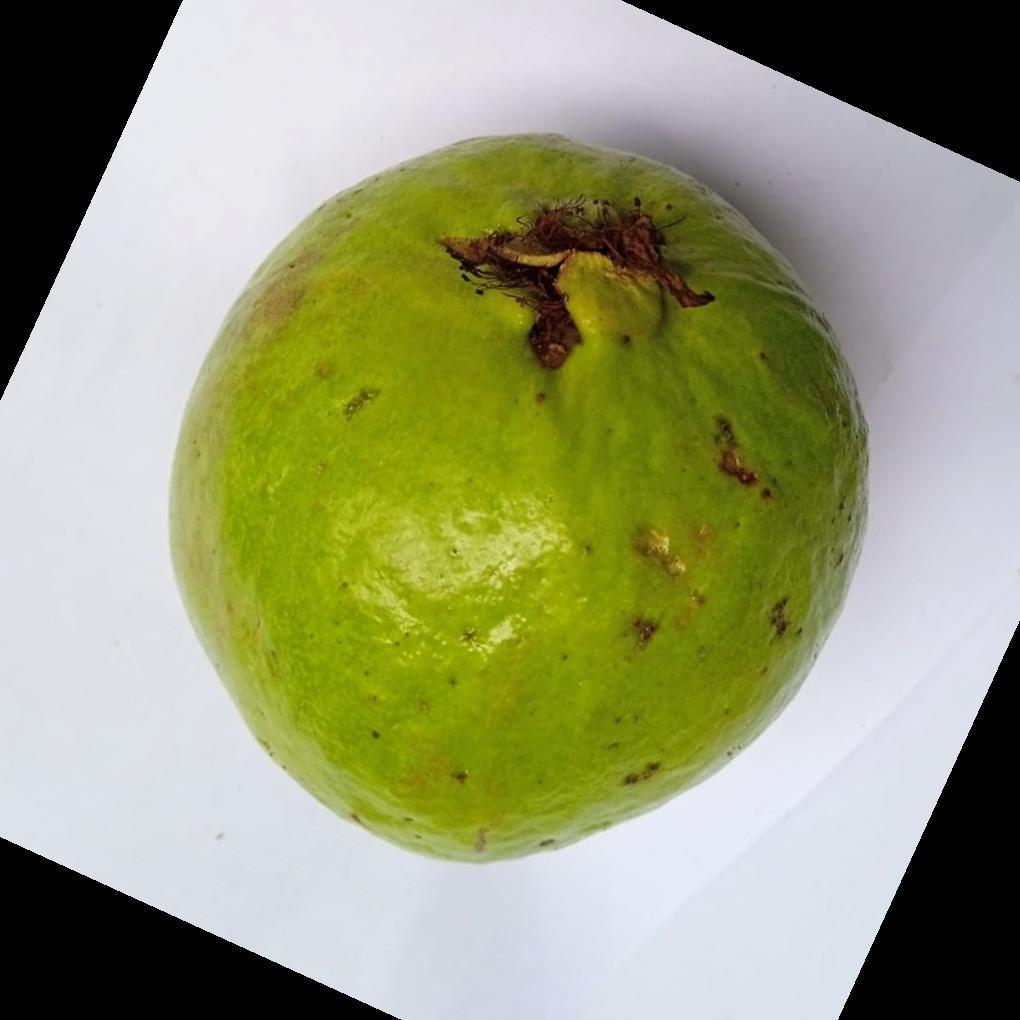FreshGuava: (163, 134, 871, 870)
